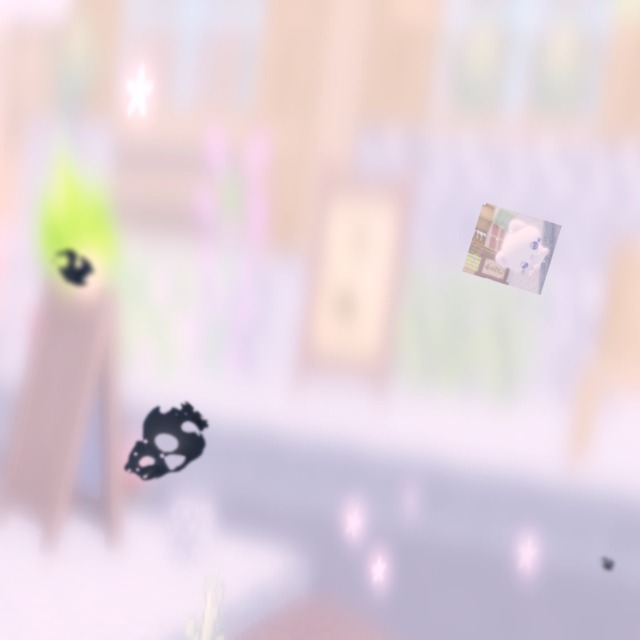urso_branco: (462, 202, 562, 295)
urso_preto: (100, 383, 224, 508), (41, 234, 106, 301), (595, 553, 619, 576)
